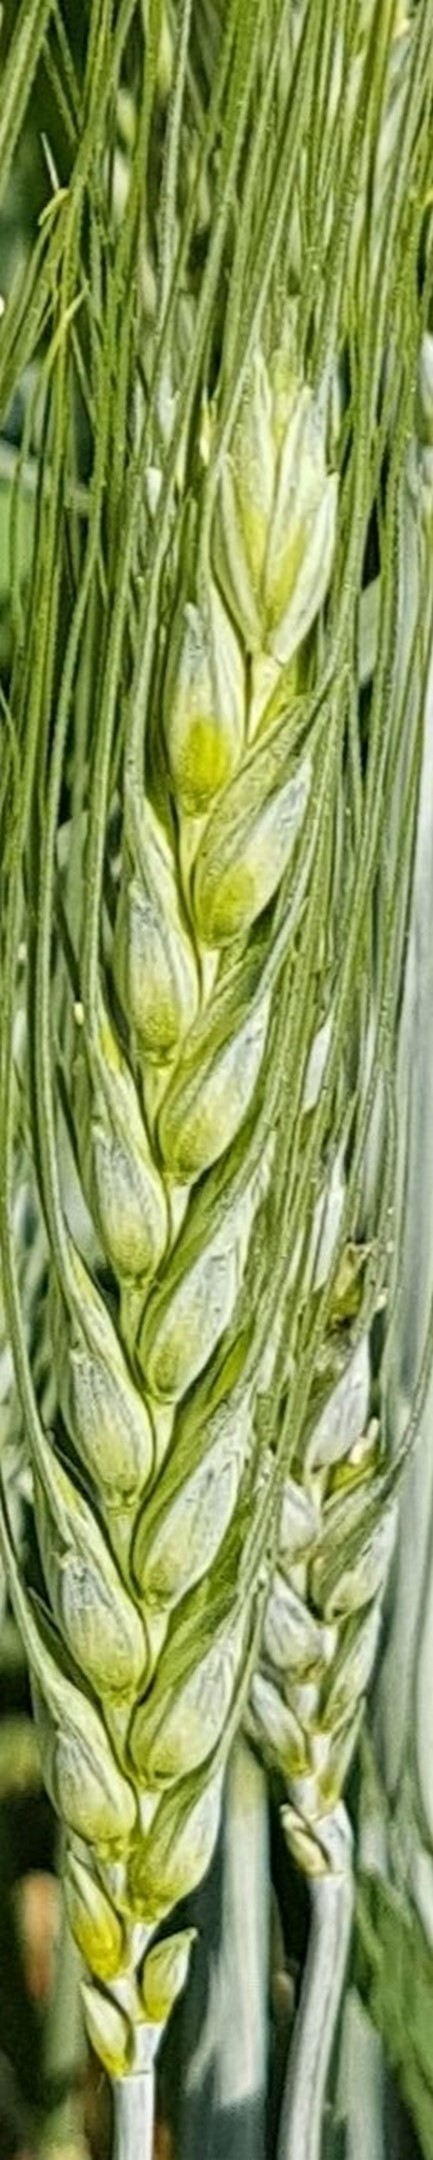Healthy Wheat: (30, 336, 408, 1975)
